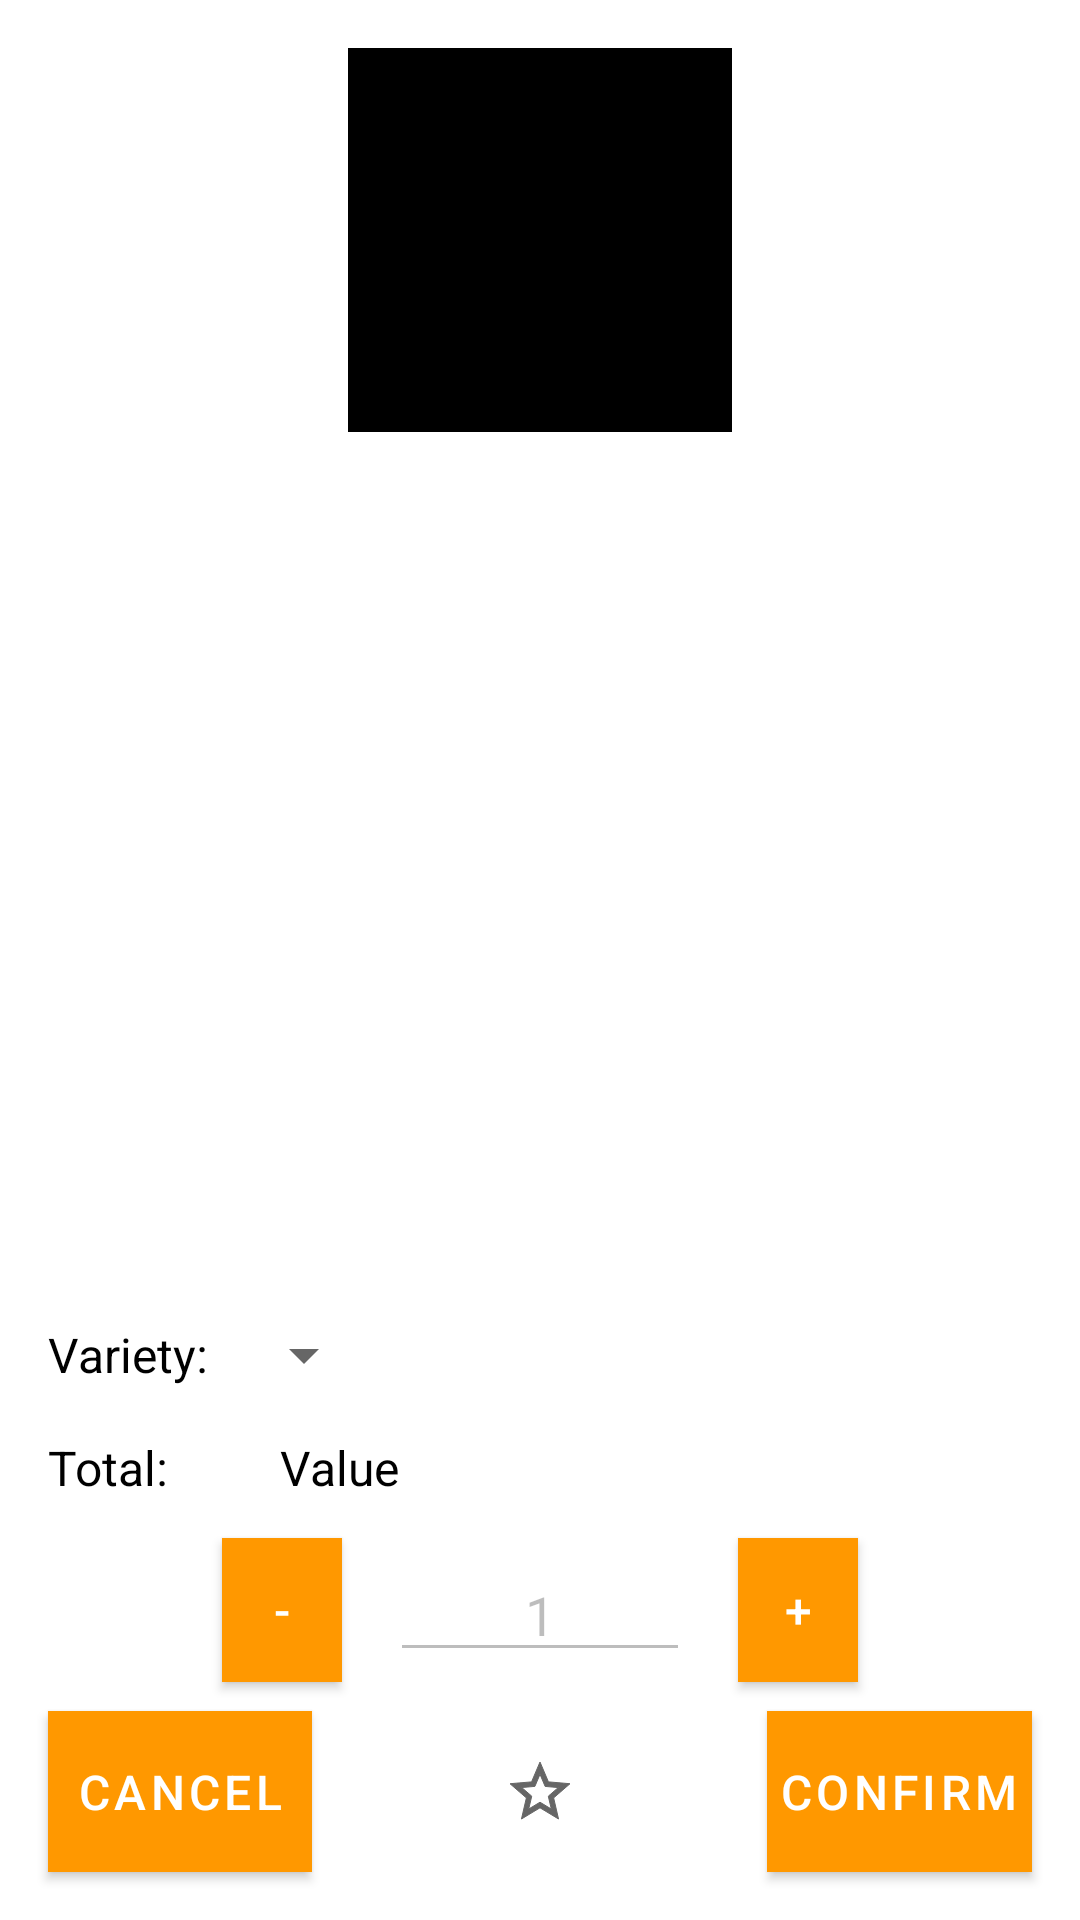

Screen size 1080 × 1920. Icon name, then its box in pixels as (x1, y1, x2, y2):
favourites off: (510, 1762, 570, 1820)
